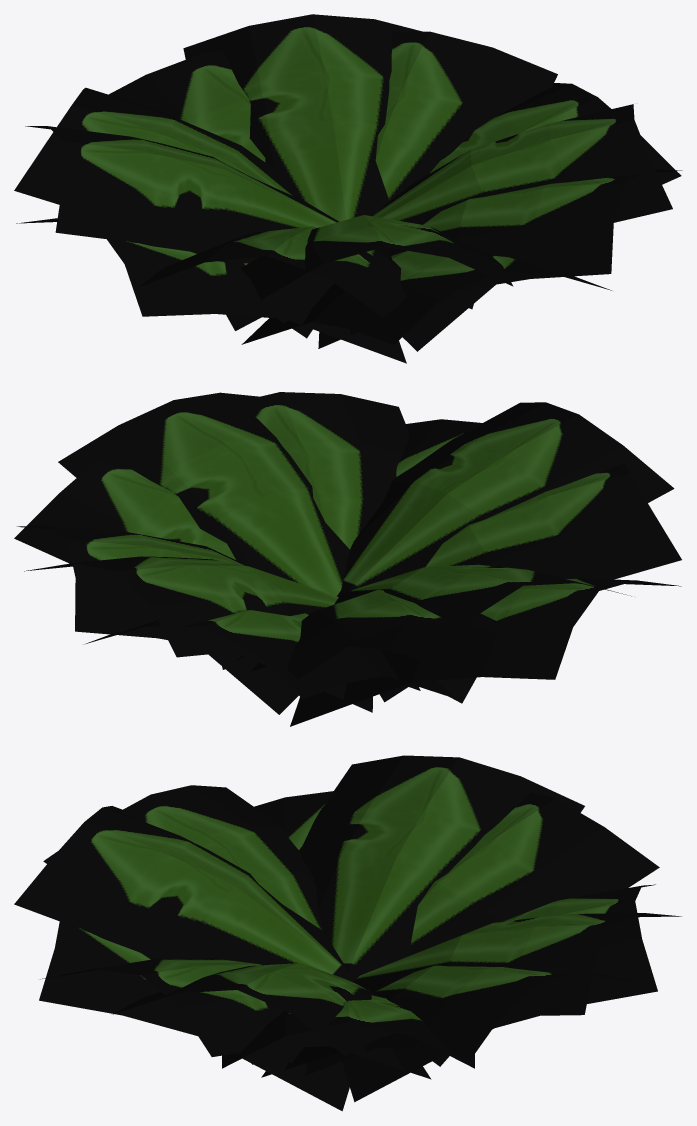
File: Bush_3.fbx
3 views of the same model, one above another, from view 1: azimuth 30°, elevation 25°; view 2: azimuth 150°, elevation 25°; view 3: azimuth 270°, elevation 25° (orthographic).
Parts seen in each view (by area): view 1: Bush.002; view 2: Bush.002; view 3: Bush.002.
Part boxes in pixels (x1,y1,x2,y2): Bush.002: (14,14,682,363); Bush.002: (14,392,681,726); Bush.002: (14,755,681,1111).
Bounding box in the file's own units: 1355 × 422 × 1355.
